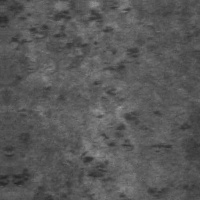rolled-in_scale: (67, 108, 155, 199)
